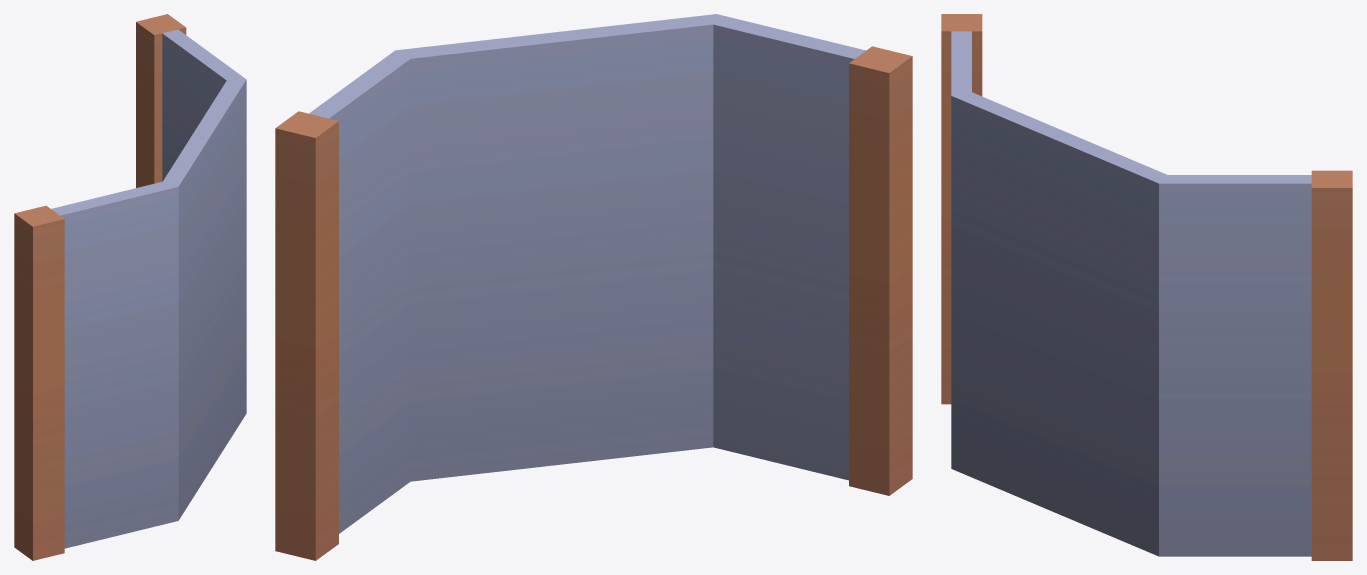
Rendered from wall-corner-diagonal.glb.
3 views of the same model, side by side, from view 1: azimuth 30°, elevation 25°; view 2: azimuth 150°, elevation 25°; view 3: azimuth 270°, elevation 25° (orthographic). The views are drawn at different scales.
Parts seen in each view (by area): view 1: wall-corner-diagonal; view 2: wall-corner-diagonal; view 3: wall-corner-diagonal.
Boxes of the visible parts, x1,y1,x2,y2 form: wall-corner-diagonal: [14, 14, 246, 560]; wall-corner-diagonal: [275, 14, 912, 560]; wall-corner-diagonal: [941, 14, 1352, 560].
Size of the model in its own units: 1 by 1 by 1.
Materials: 1 (1 with a texture image).
